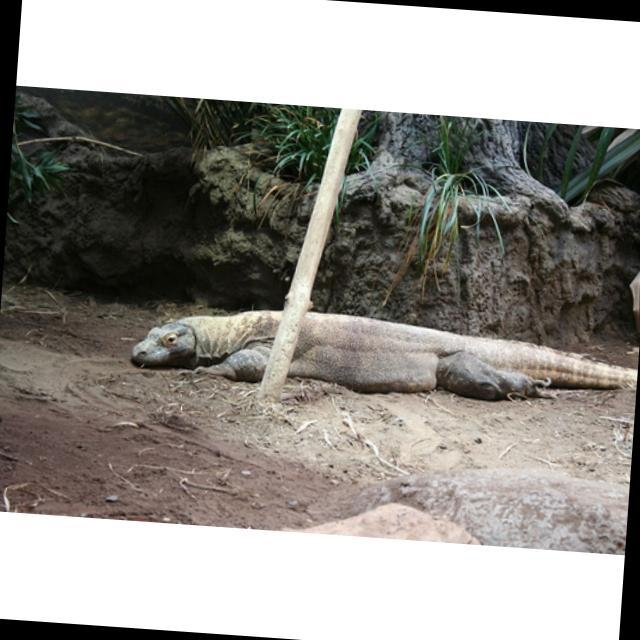KomodoDragon: (131, 295, 640, 408)
